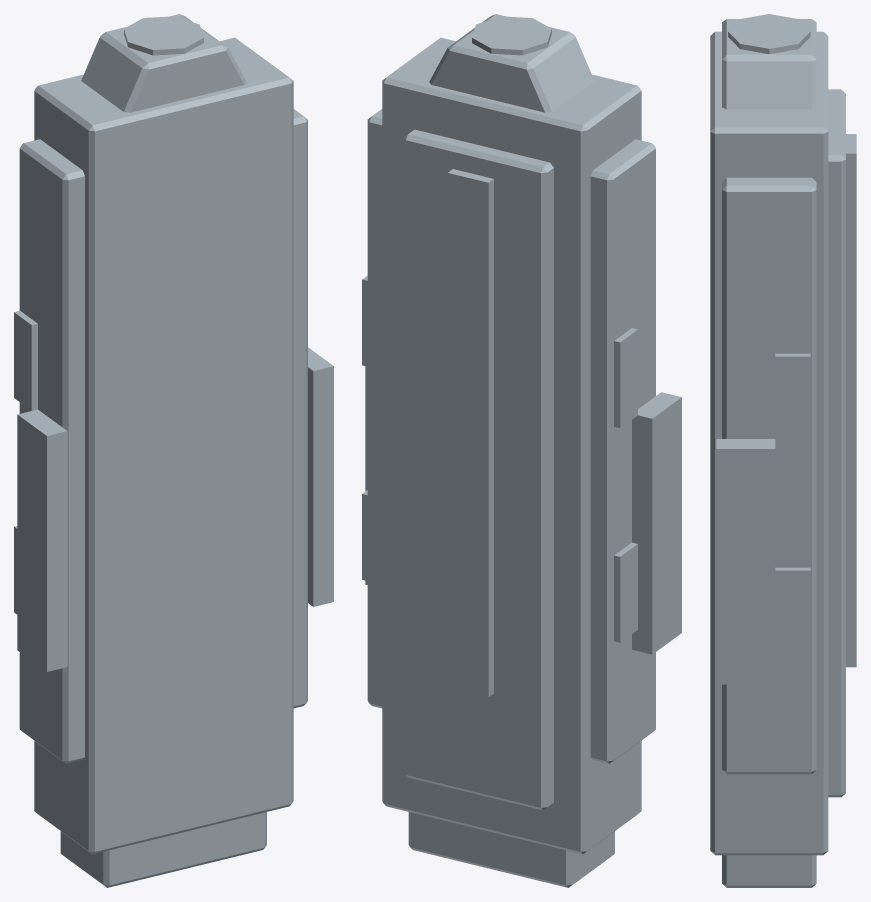
Rendered from Rail_Seeker.fbx.
3 views of the same model, side by side, from view 1: azimuth 30°, elevation 25°; view 2: azimuth 150°, elevation 25°; view 3: azimuth 270°, elevation 25° (orthographic).
Parts seen in each view (by area): view 1: Rail_Seeker; view 2: Rail_Seeker; view 3: Rail_Seeker.
Boxes of the visible parts, x1,y1,x2,y2 form: Rail_Seeker: (14, 14, 333, 887); Rail_Seeker: (362, 14, 681, 887); Rail_Seeker: (710, 14, 856, 887).
Size of the model in its own units: 28 by 76.5 by 12.4.
